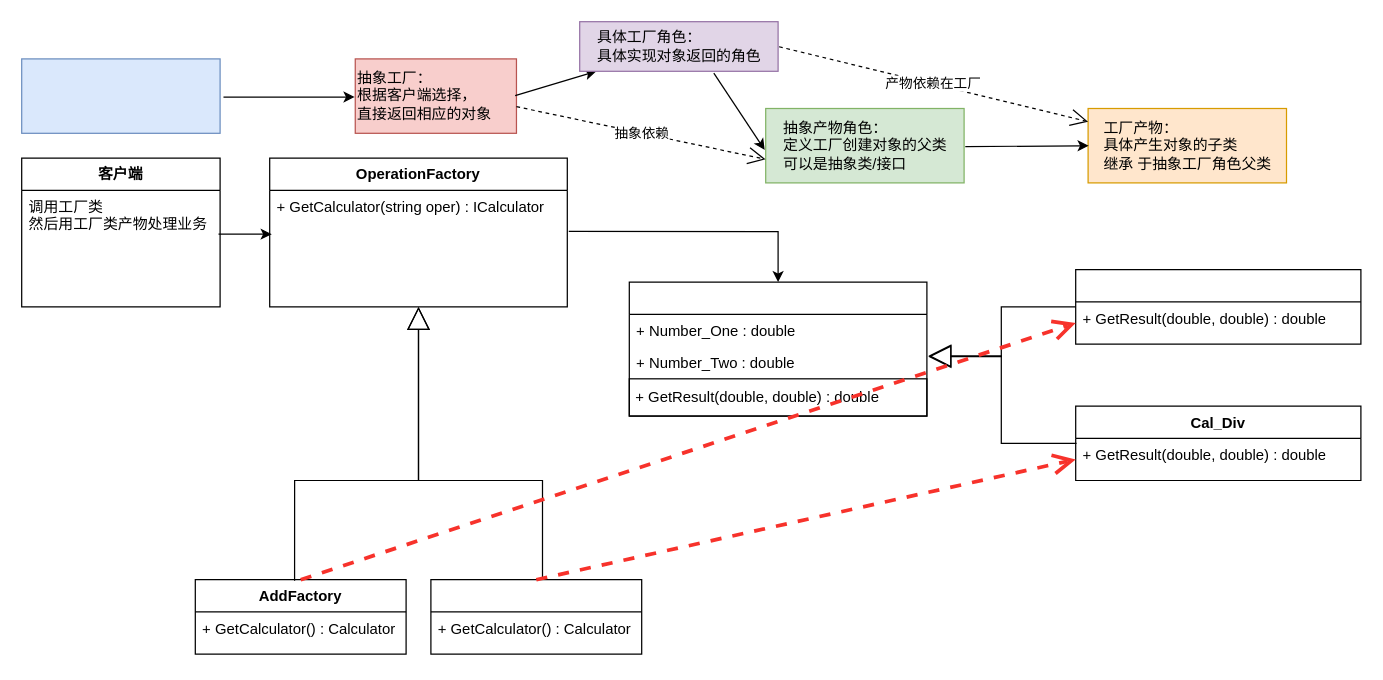
The diagram is 1383 pixels wide and 680 high, and some of its shapes have lost their labels. Here are the shapes that lost their labels. From the top down, the box of each, then its label:
(20, 58, 220, 133): 客户端： 初始化参数， 调用抽象工厂返回的对象
(1074, 268, 1361, 344): Cal_Add
(628, 281, 927, 416): Calculator
(430, 578, 642, 654): SubFactory
